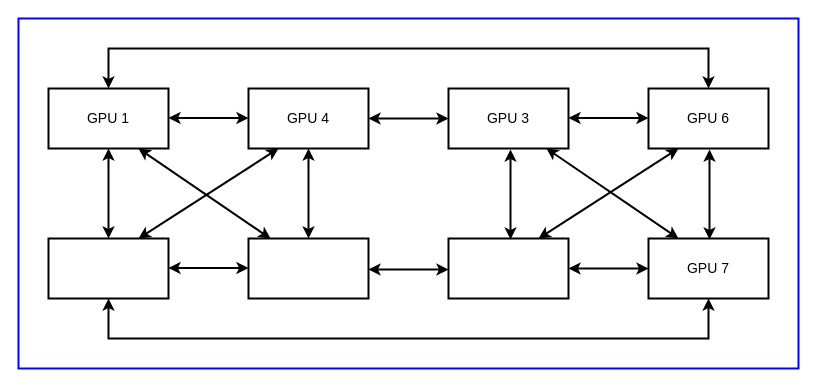
This 816x386 diagram has some shape labels left out. Here are the shapes that lost their labels. From the top down, the box of each, then its label:
(47, 237, 169, 299): GPU 0
(247, 237, 369, 299): GPU 5
(447, 237, 569, 299): GPU 2
